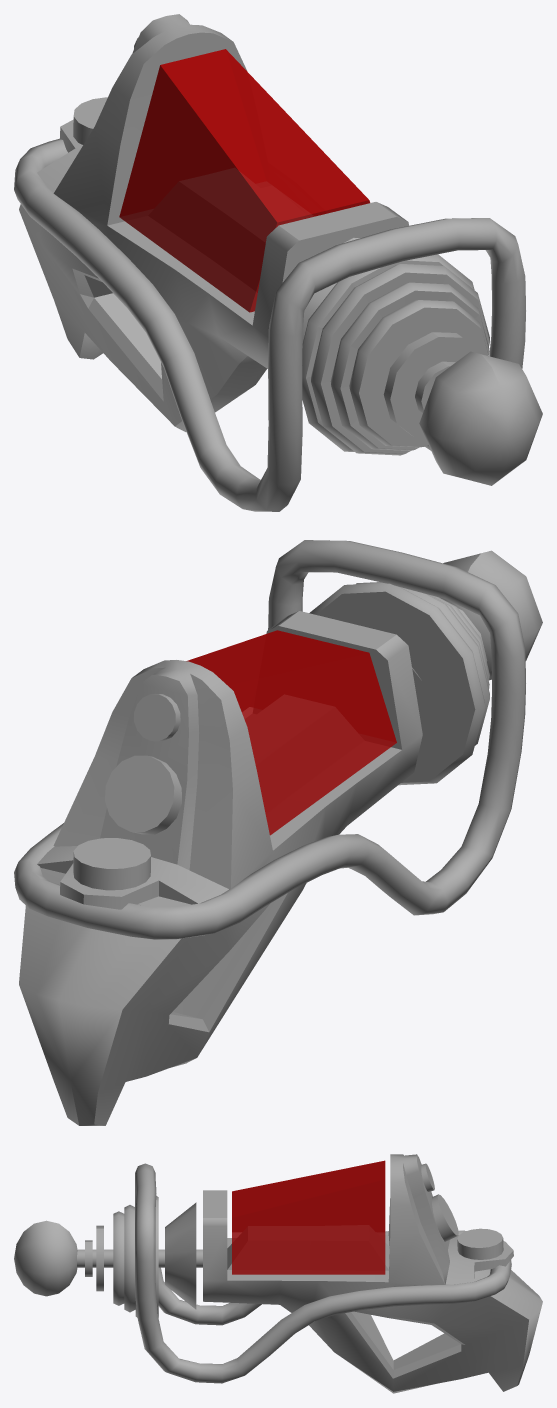
The model's file is Mesh_Blaster.fbx.
3 views of the same model, one above another, from view 1: azimuth 30°, elevation 25°; view 2: azimuth 150°, elevation 25°; view 3: azimuth 270°, elevation 25° (orthographic). The views are drawn at different scales.
Visible parts, largest first — view 1: Mesh_Blaster; view 2: Mesh_Blaster; view 3: Mesh_Blaster.
Boxes of the visible parts, x1,y1,x2,y2 form: Mesh_Blaster: (14,14,542,511); Mesh_Blaster: (14,540,542,1125); Mesh_Blaster: (14,1154,542,1393).
Bounding box in the file's own units: 41.38 × 62.38 × 127.
